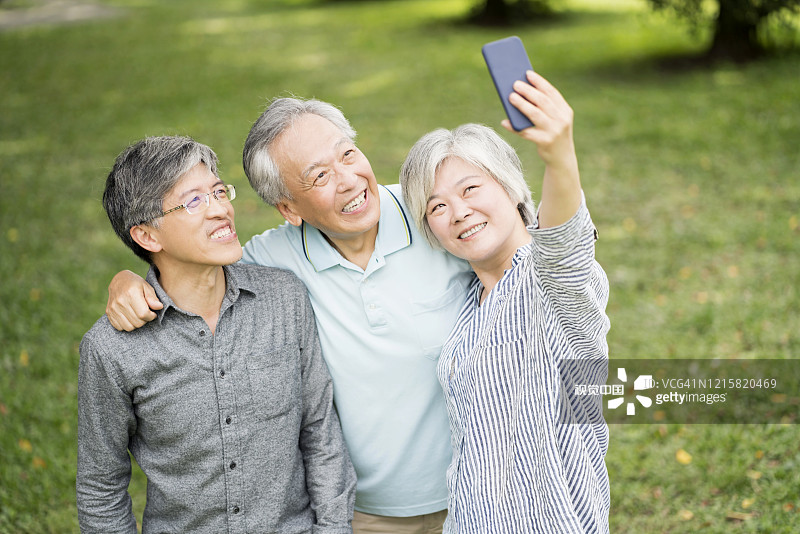no-phone: (96, 266, 169, 335)
taking photos: (476, 41, 599, 177)
